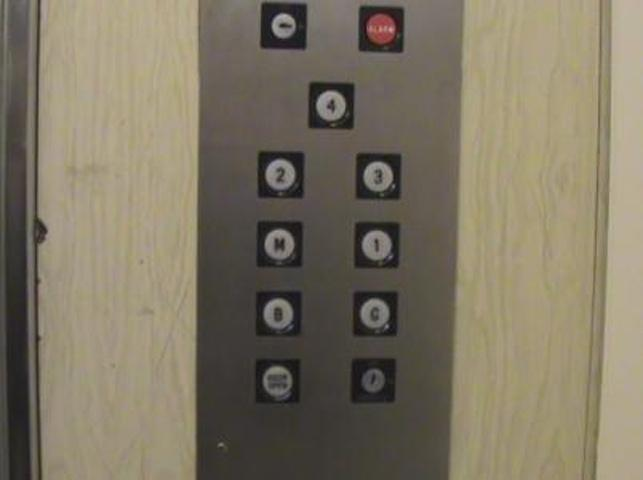1: (351, 218, 401, 270)
2: (254, 148, 306, 199)
3: (351, 149, 402, 201)
4: (305, 78, 356, 131)
B: (252, 288, 302, 338)
G: (350, 288, 399, 338)
alarm: (355, 2, 405, 54)
keyhole: (257, 0, 309, 51), (348, 354, 396, 404)
unknown: (253, 217, 304, 269), (252, 356, 301, 405)
